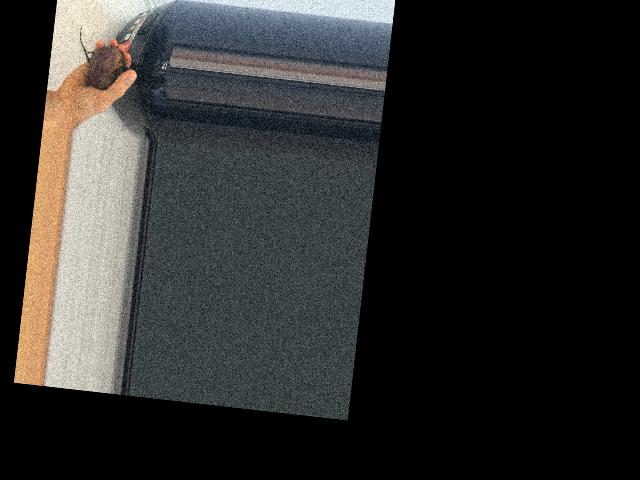beet: (73, 24, 133, 92)
